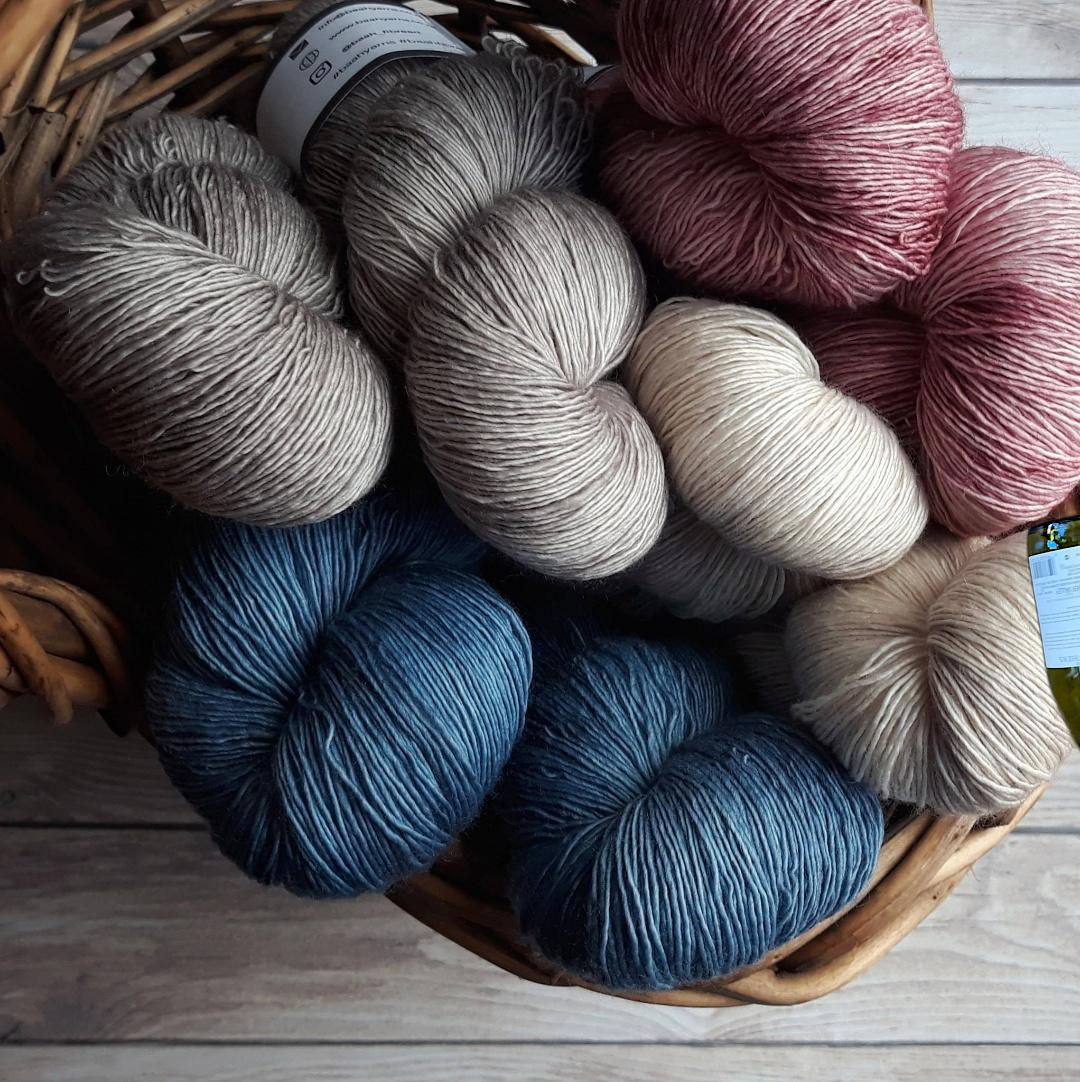glass: (1022, 504, 1080, 867)
